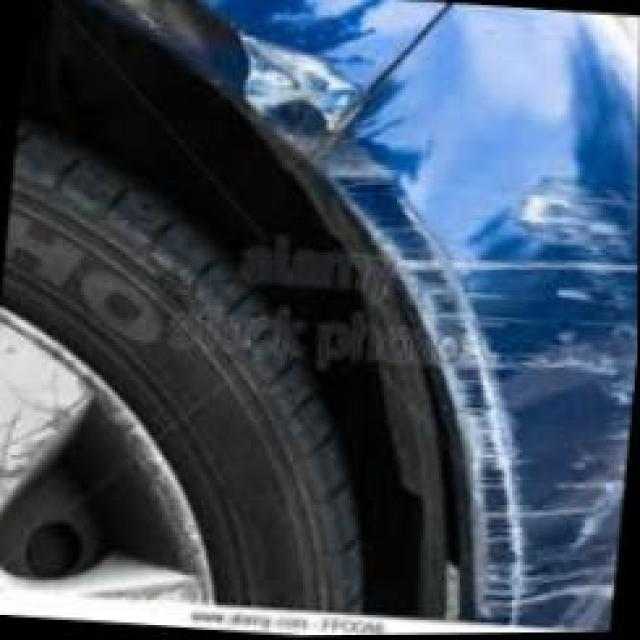Bumper: (178, 22, 640, 638)
